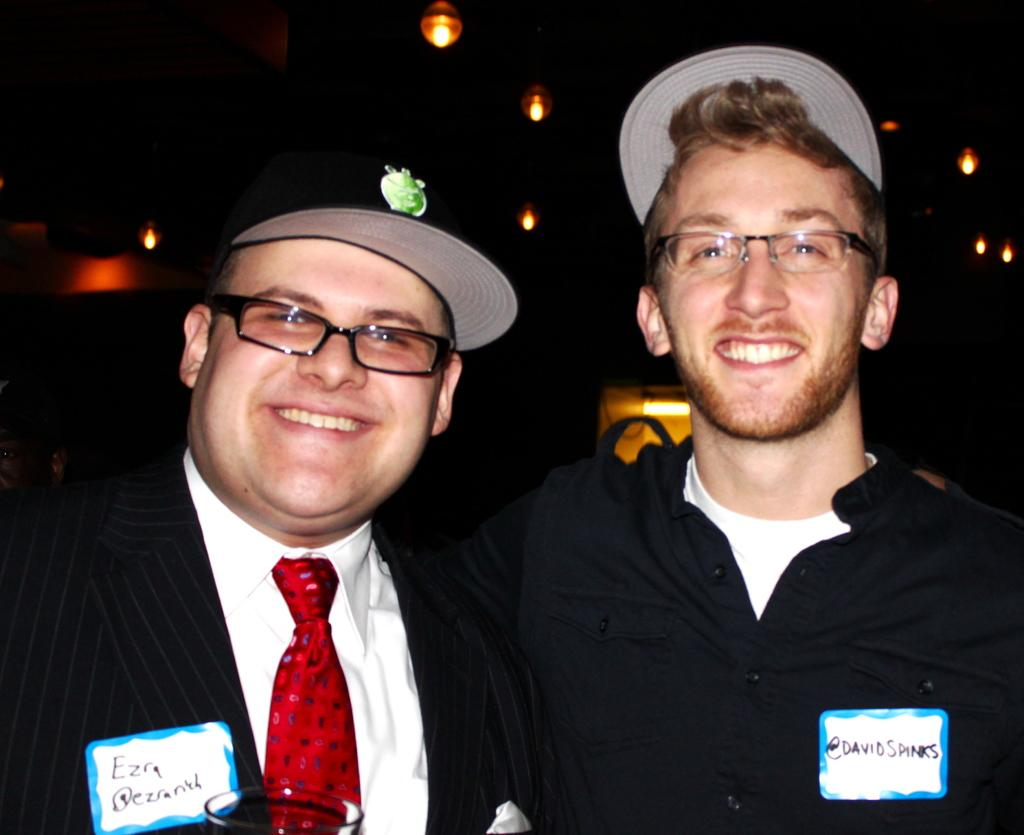Hat: (616, 43, 881, 227), (198, 205, 517, 348)
